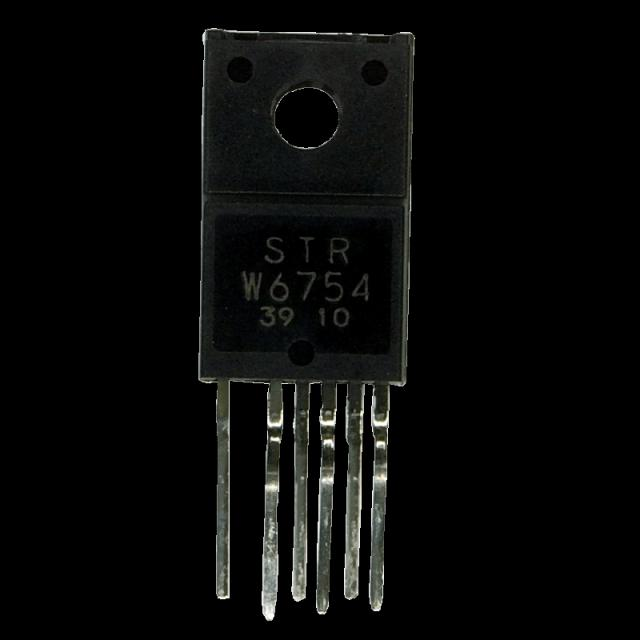IC: (183, 18, 429, 563)
